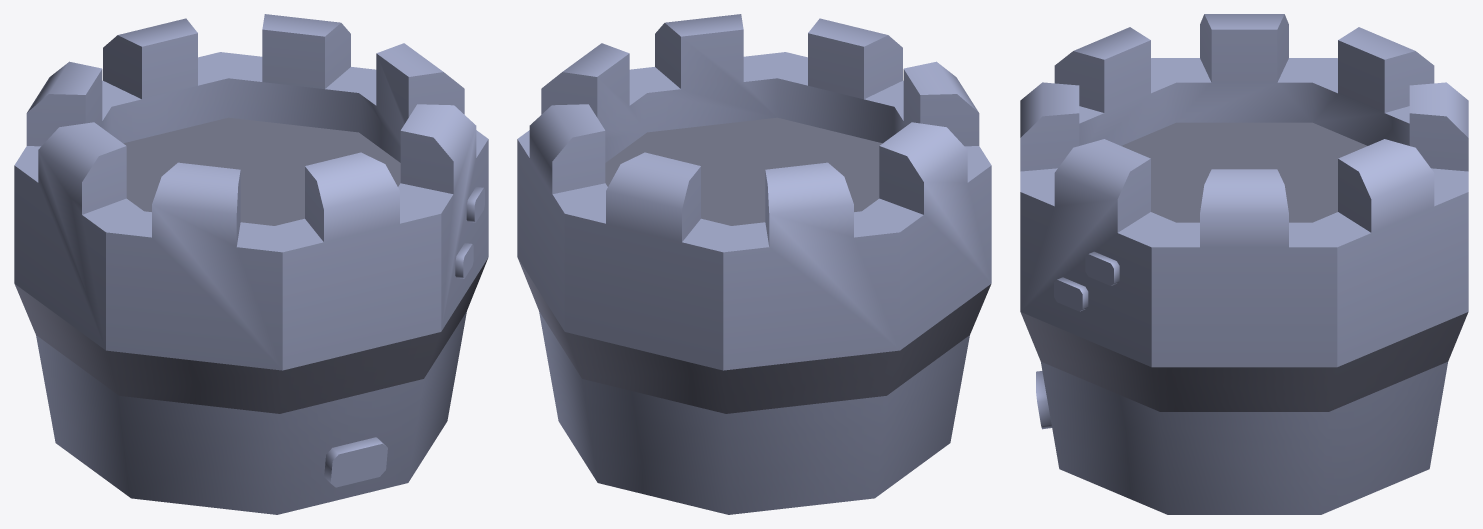
File: pk_tower-top.glb
3 renders of one model, left to right at view 1: azimuth 30°, elevation 25°; view 2: azimuth 150°, elevation 25°; view 3: azimuth 270°, elevation 25°, orthographic.
Parts seen in each view (by area): view 1: tower-top; view 2: tower-top; view 3: tower-top.
Part boxes in pixels (<box>): tower-top: <box>14,14,488,514</box>; tower-top: <box>517,14,991,514</box>; tower-top: <box>1020,14,1468,514</box>.
Bounding box in the file's own units: 3.35 × 2.78 × 3.35.
1 material, 1 textured.
